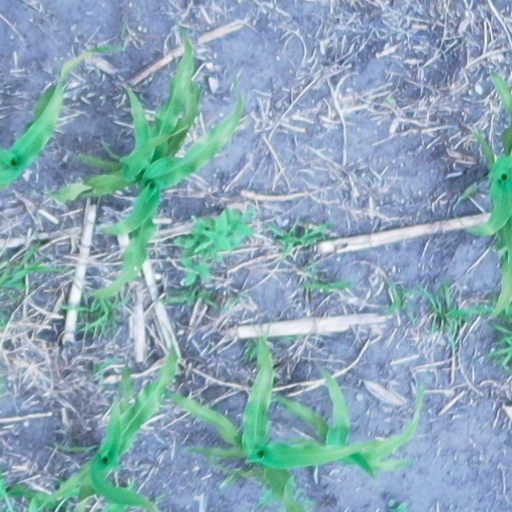planta: (83, 89, 243, 297), (46, 28, 198, 204), (268, 366, 424, 481)
